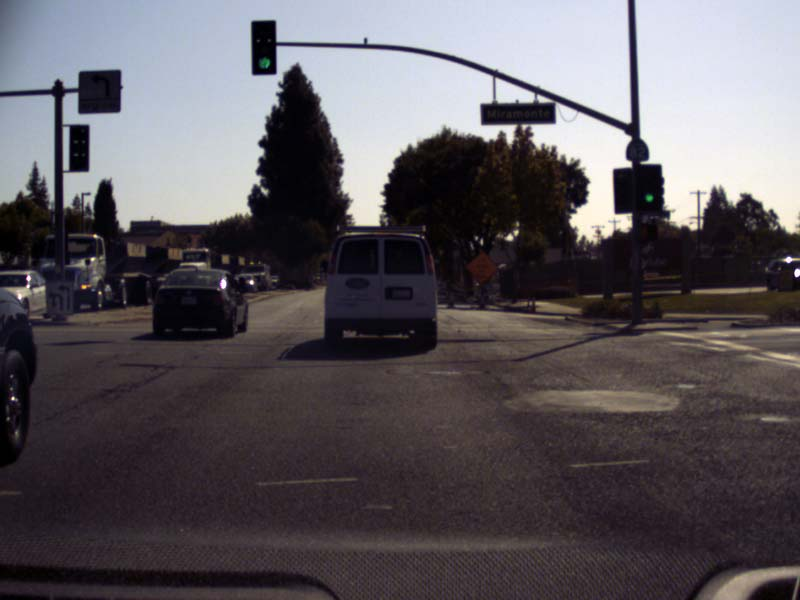Green: (251, 20, 275, 74), (635, 165, 660, 212)
